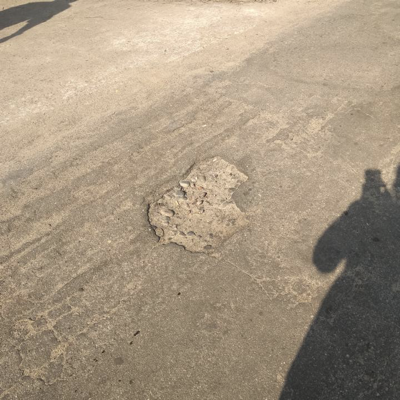pothole: (144, 155, 252, 256)
